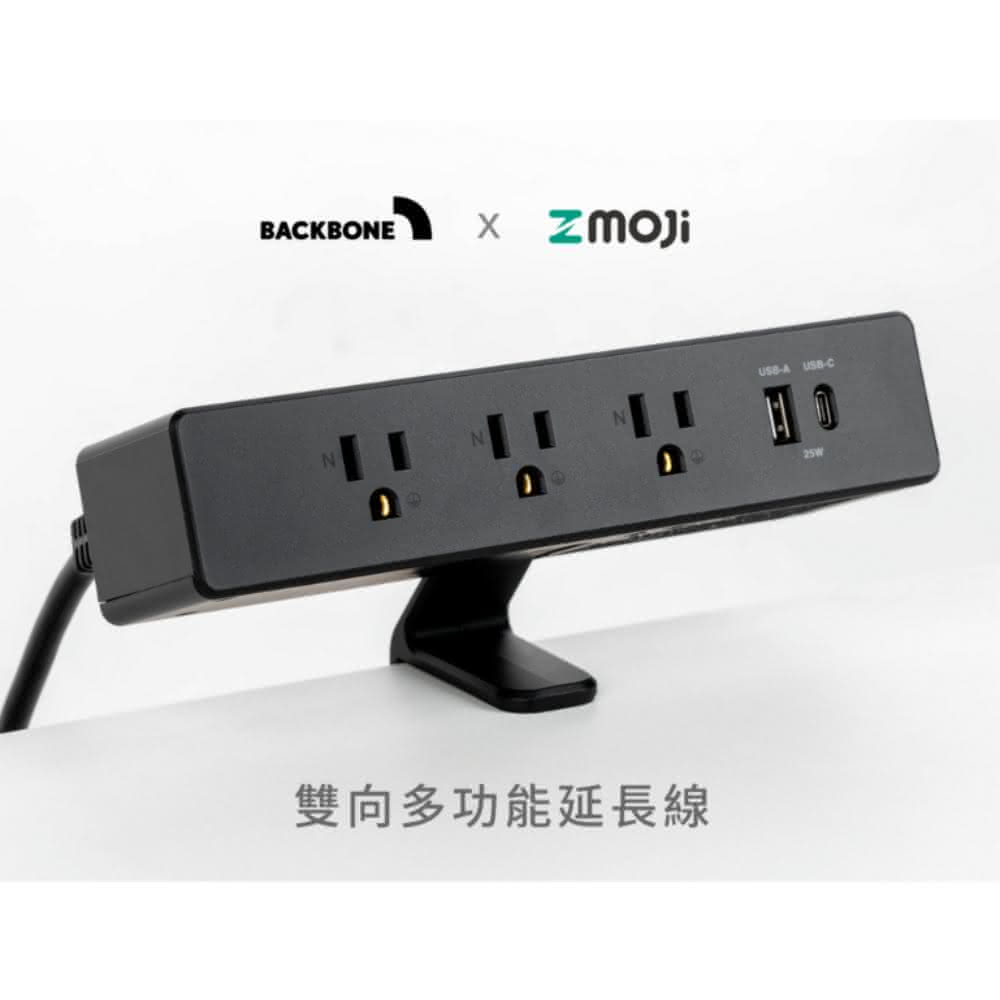socket: (71, 311, 942, 628)
